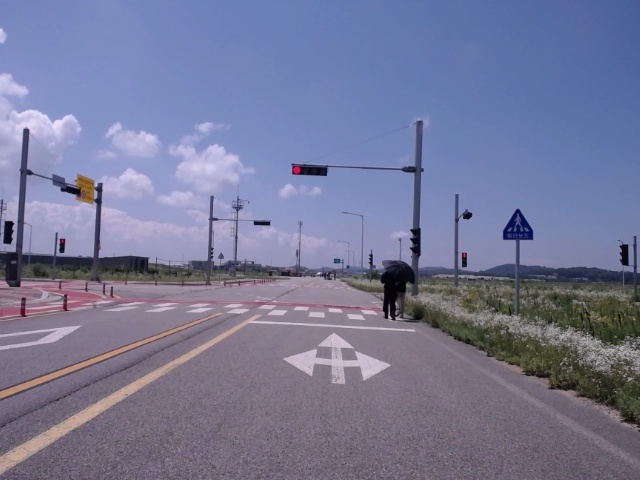red_4: (292, 165, 327, 176)
